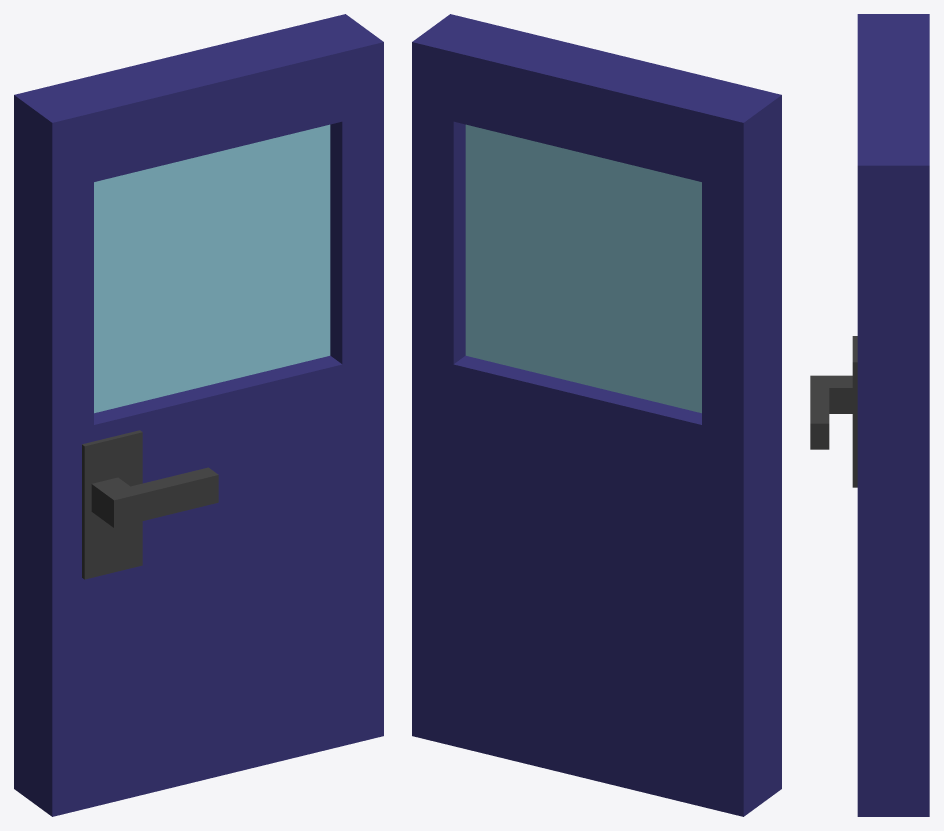
The model's file is ClassDoor1.glb.
3 views of the same model, side by side, from view 1: azimuth 30°, elevation 25°; view 2: azimuth 150°, elevation 25°; view 3: azimuth 270°, elevation 25° (orthographic). The views are drawn at different scales.
Visible parts, largest first — view 1: Base; view 2: Base; view 3: Base.
Part boxes in pixels (box(x1,y1,x2,y2)): Base: box(14, 14, 383, 816); Base: box(412, 14, 781, 816); Base: box(810, 14, 929, 816).
Size of the model in its own units: 2 by 4 by 0.6643.
